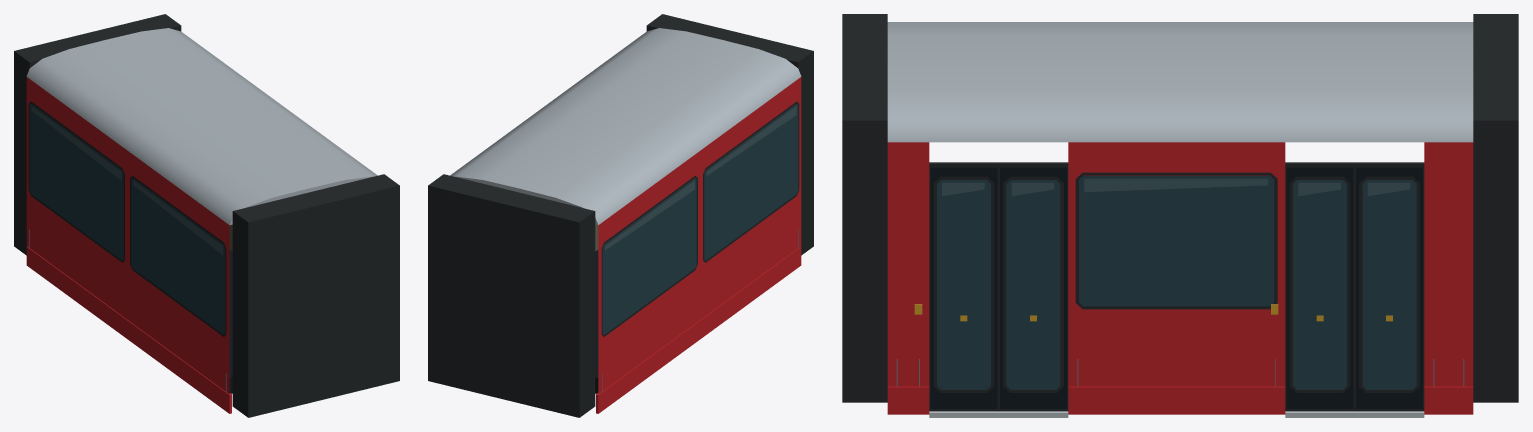
File: 14t-d-viewer.glb
The picture shows the model from 3 angles, left to right: view 1: azimuth 30°, elevation 25°; view 2: azimuth 150°, elevation 25°; view 3: azimuth 270°, elevation 25°; orthographic projection. The views are drawn at different scales.
Visible parts, largest first — view 1: 14t-d; view 2: 14t-d; view 3: 14t-d, 14t-d-door-1-1.700-1, 14t-d-door-1--1.630-1, 14t-d-door-1-1.700-0, 14t-d-door-1--1.630-0.
Part boxes in pixels (<box>): 14t-d: <box>14,14,399,417</box>; 14t-d: <box>428,14,813,417</box>; 14t-d: <box>842,14,1518,417</box>; 14t-d-door-1-1.700-1: <box>930,167,997,408</box>; 14t-d-door-1--1.630-1: <box>1286,167,1353,408</box>; 14t-d-door-1-1.700-0: <box>1000,167,1066,408</box>; 14t-d-door-1--1.630-0: <box>1356,167,1422,408</box>.
Size of the model in its own units: 2.56 by 3.07 by 6.32.
